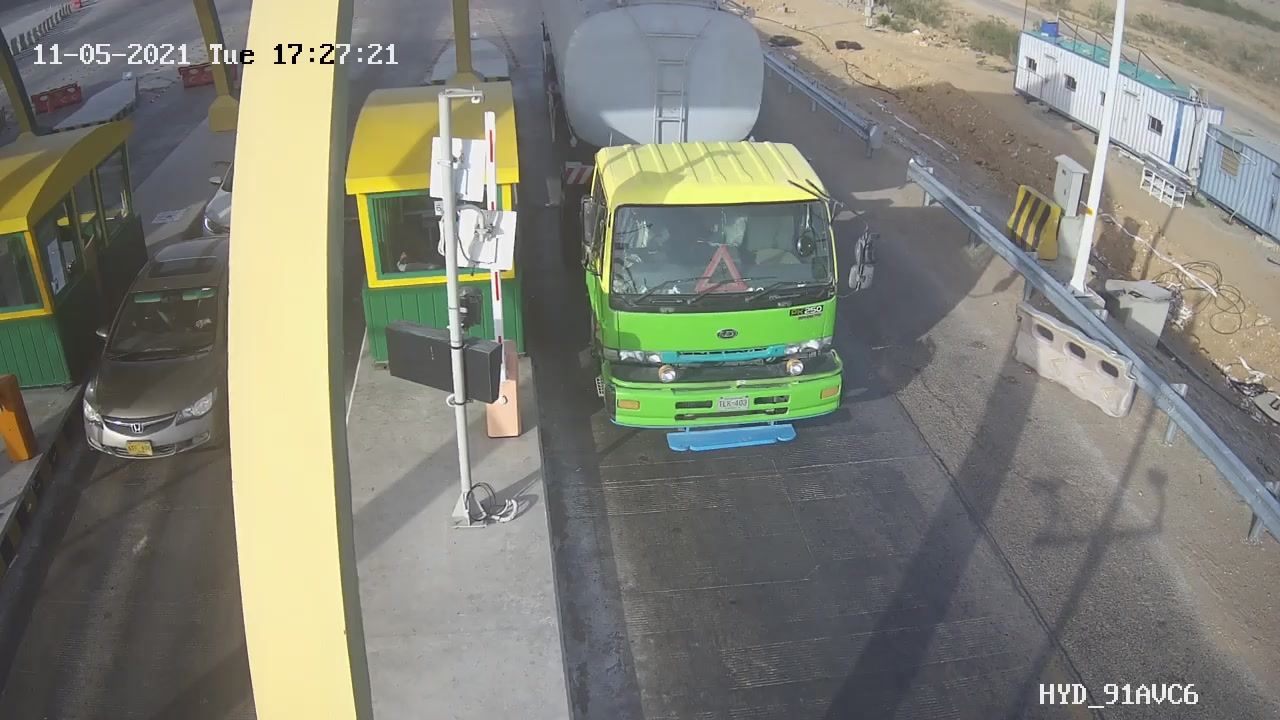F6: (525, 3, 907, 472)
